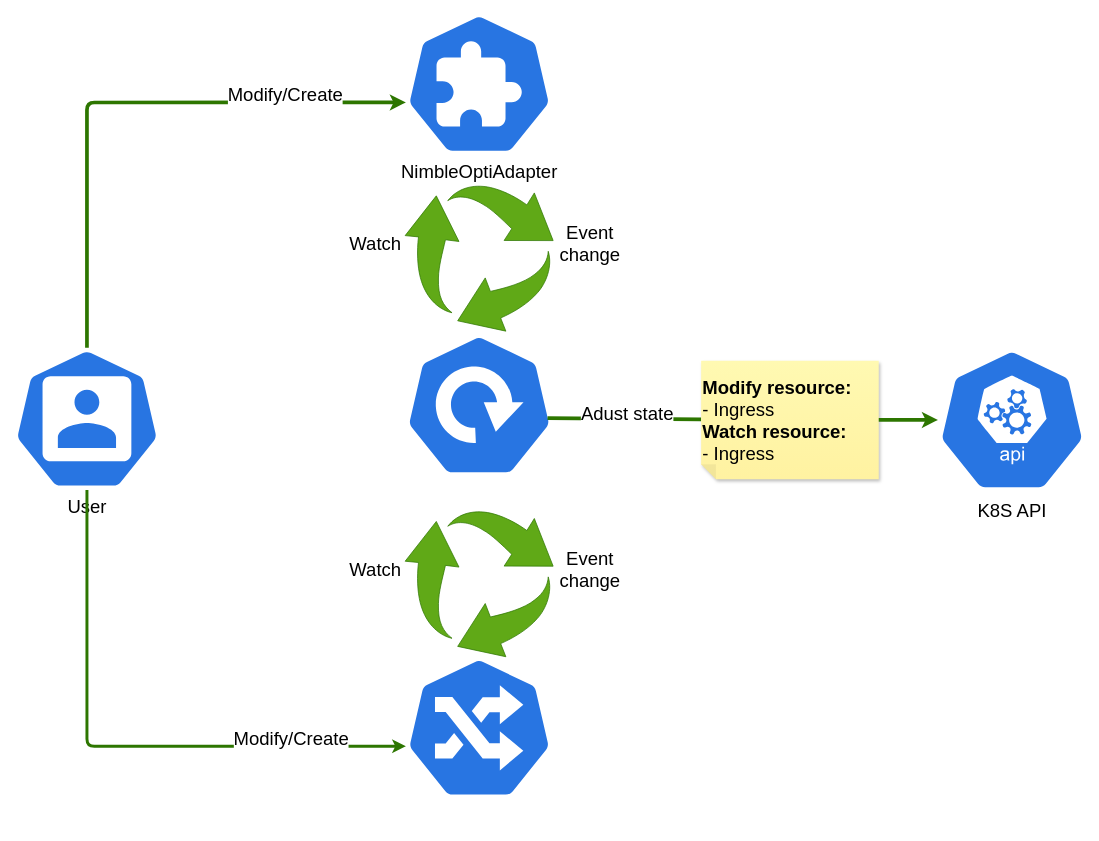
This 1099x841 diagram has some shape labels left out. The centre of each missing label's shape, as x and y in pixels:
"Ingress" goes at point 478,727.
"Operator" goes at point 478,404.
